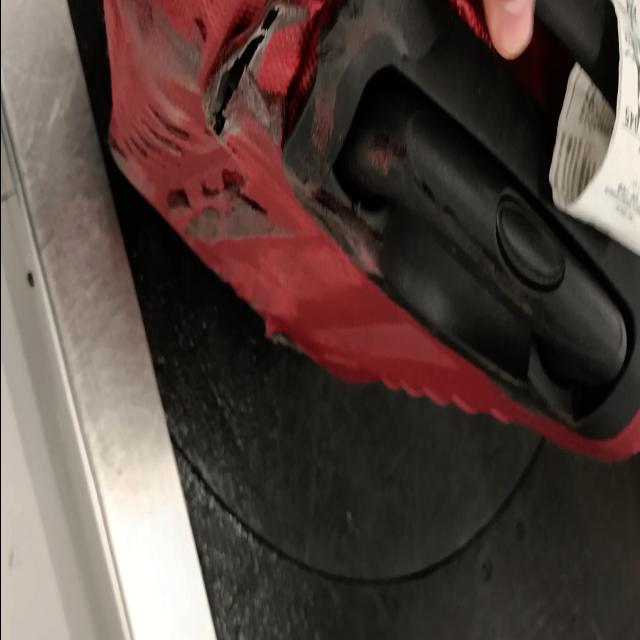Damage-bag: (341, 131, 542, 334), (201, 2, 309, 149), (290, 176, 381, 280), (182, 169, 290, 242), (166, 189, 190, 213)
